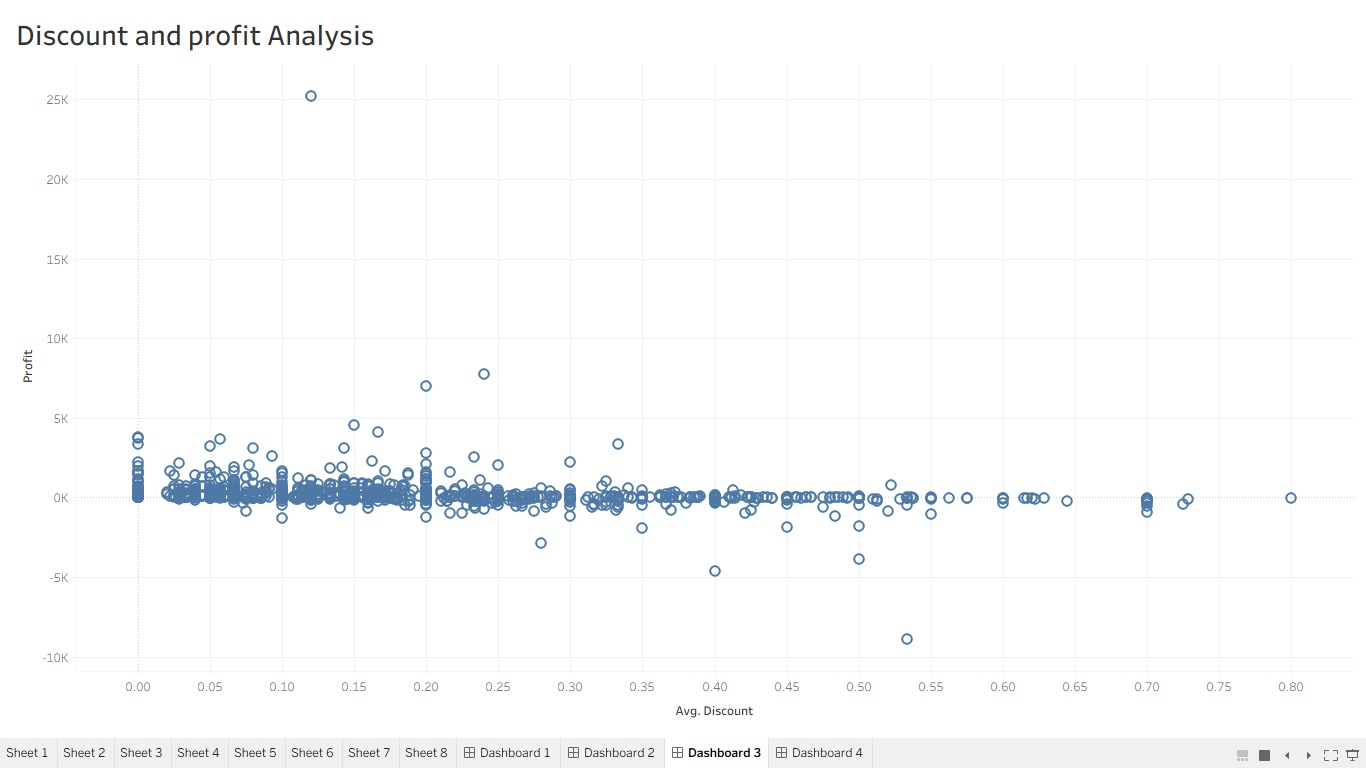

What the dashboard file says about the page in this screenshot:
{"tool":"tableau","page":{"name":"Dashboard 3","canvas":[1000,1000],"units":"permille","ordinal":2},"visuals":[{"type":"worksheet","title":"Sheet 8","mark":"Automatic","rows":["Profit"],"cols":["Discount"],"box":[6.9,13.7,986.1,972.6]}]}

Visuals, with their boxes on the dashboard's canvas, which has no fixed pixel size, in thousandths of its width and height (x1, y1, x2, y2). These are canvas units, not pixel positions in the 1366x768 screenshot, which may show the page scaled, cropped or inside an application window:
"Sheet 8" worksheet: 7/14/993/986
